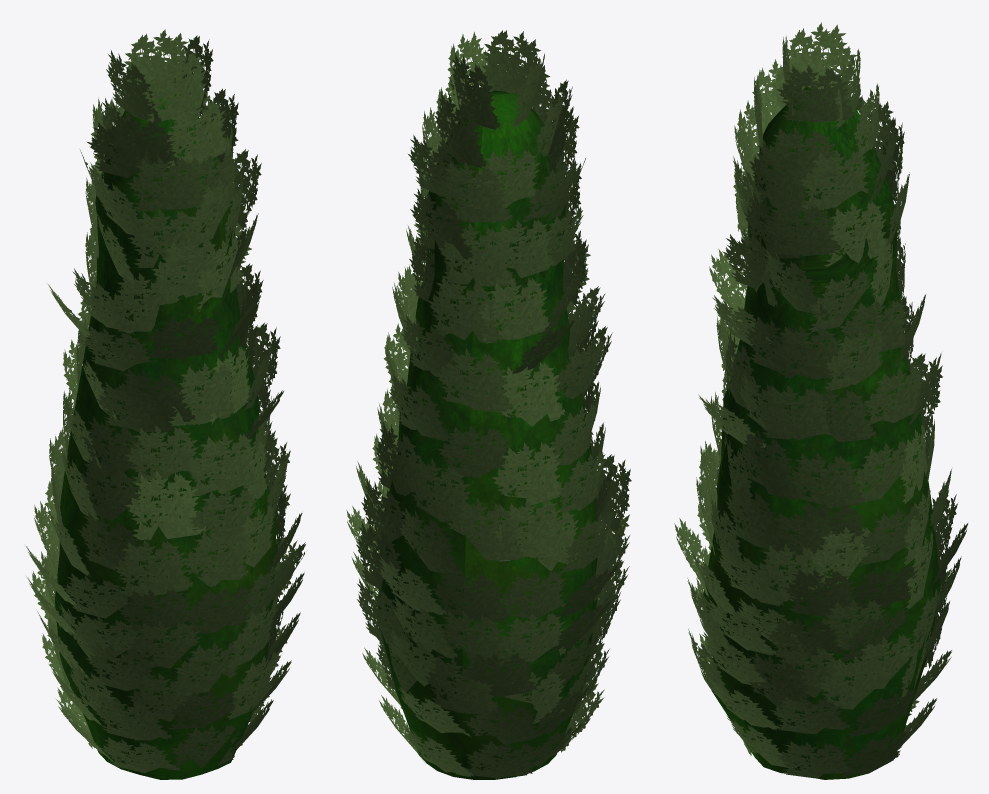
The model's file is DickBush_Mesh.fbx.
3 views of the same model, side by side, from view 1: azimuth 30°, elevation 25°; view 2: azimuth 150°, elevation 25°; view 3: azimuth 270°, elevation 25° (orthographic).
Visible parts, largest first — view 1: DickBush_Mesh; view 2: DickBush_Mesh; view 3: DickBush_Mesh.
Part boxes in pixels (box(x1,y1,x2,y2)): DickBush_Mesh: box(26, 29, 305, 779); DickBush_Mesh: box(346, 30, 631, 779); DickBush_Mesh: box(674, 22, 967, 779).
Size of the model in its own units: 1.18 by 3.12 by 1.2.
